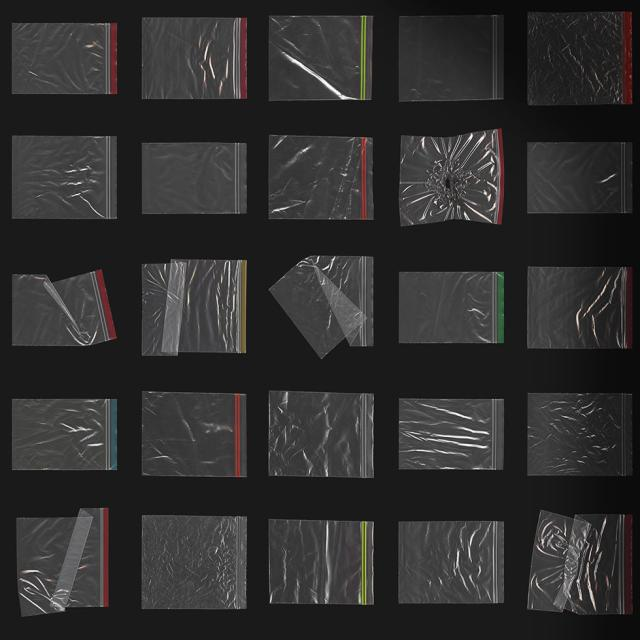Single-layer Plastic: (528, 510, 632, 615), (270, 257, 372, 358), (399, 129, 504, 226), (141, 259, 246, 356), (18, 508, 109, 616), (141, 516, 246, 609), (528, 12, 632, 105), (269, 391, 374, 478), (399, 15, 504, 101), (269, 136, 374, 220), (269, 520, 374, 604), (12, 136, 116, 219), (142, 393, 246, 476), (399, 521, 504, 603), (270, 16, 372, 100), (142, 17, 246, 99), (528, 394, 632, 476), (528, 267, 631, 349), (12, 271, 116, 346), (12, 23, 118, 94), (12, 399, 118, 470), (142, 142, 246, 214), (528, 142, 632, 214), (399, 273, 504, 343), (399, 399, 504, 469)
